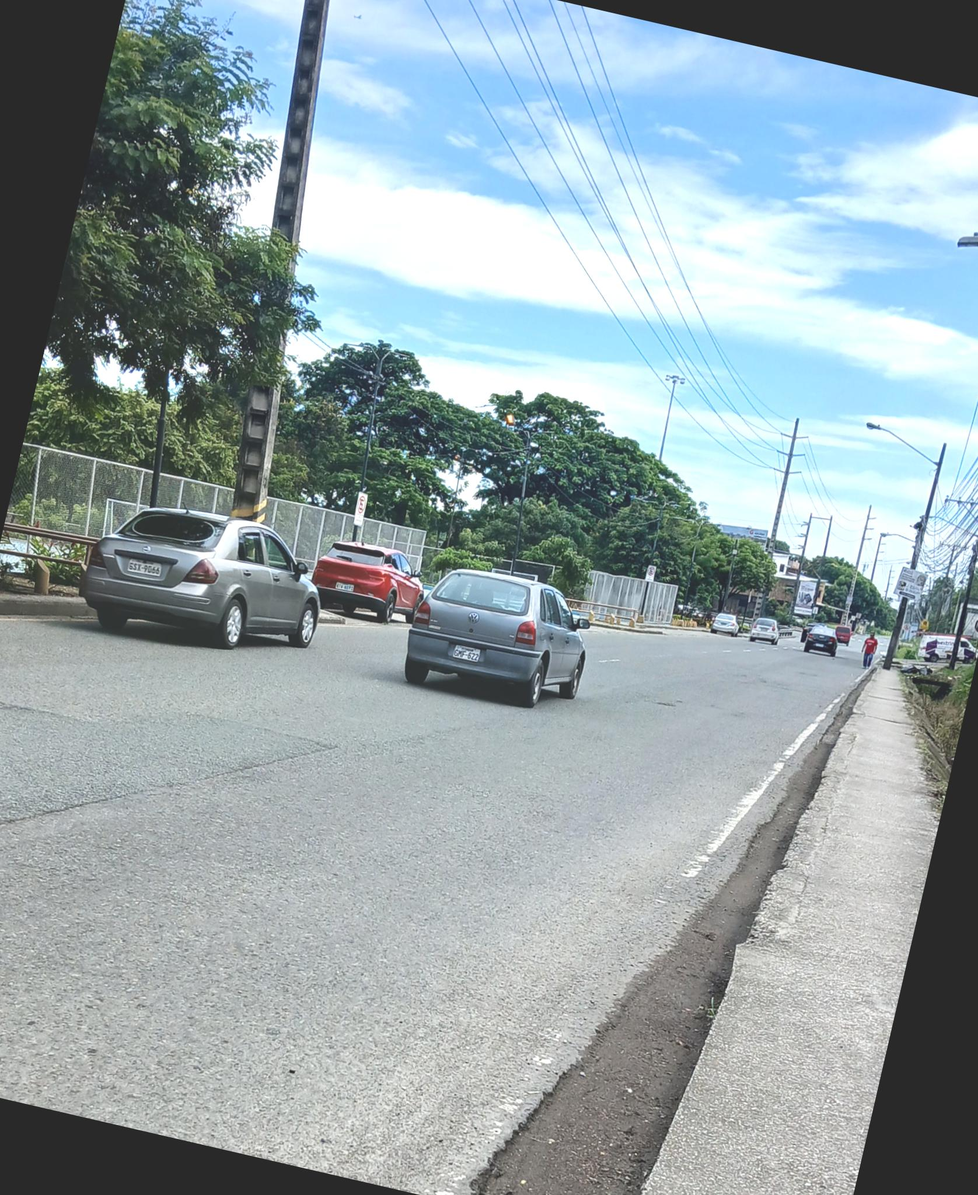license_plate: (125, 557, 163, 578), (448, 642, 481, 663), (334, 581, 354, 593)
